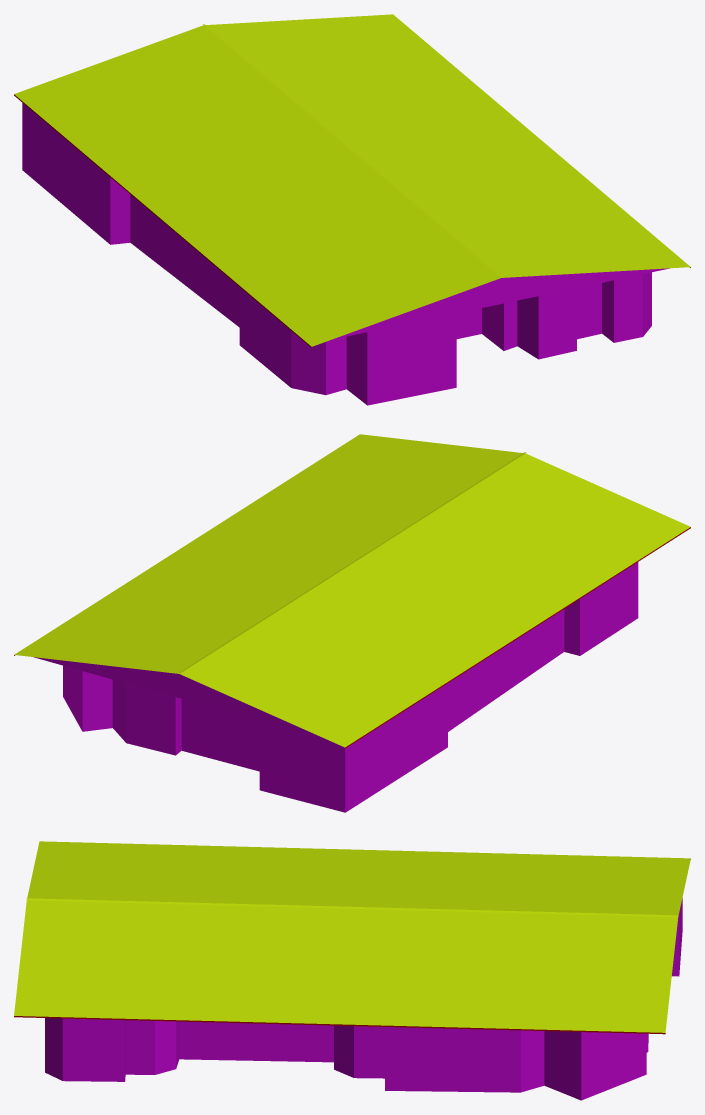
Rendered from ces_43.glb.
The picture shows the model from 3 angles, top to bottom: view 1: azimuth 30°, elevation 25°; view 2: azimuth 150°, elevation 25°; view 3: azimuth 270°, elevation 25°; orthographic projection. The views are drawn at different scales.
Visible parts, largest first — view 1: ces_43; view 2: ces_43; view 3: ces_43.
Boxes of the visible parts, box(x1,y1,x2,y2) form: ces_43: box(14, 14, 690, 405); ces_43: box(14, 434, 690, 812); ces_43: box(14, 841, 690, 1100).
Size of the model in its own units: 37.1 by 9.18 by 55.42.
